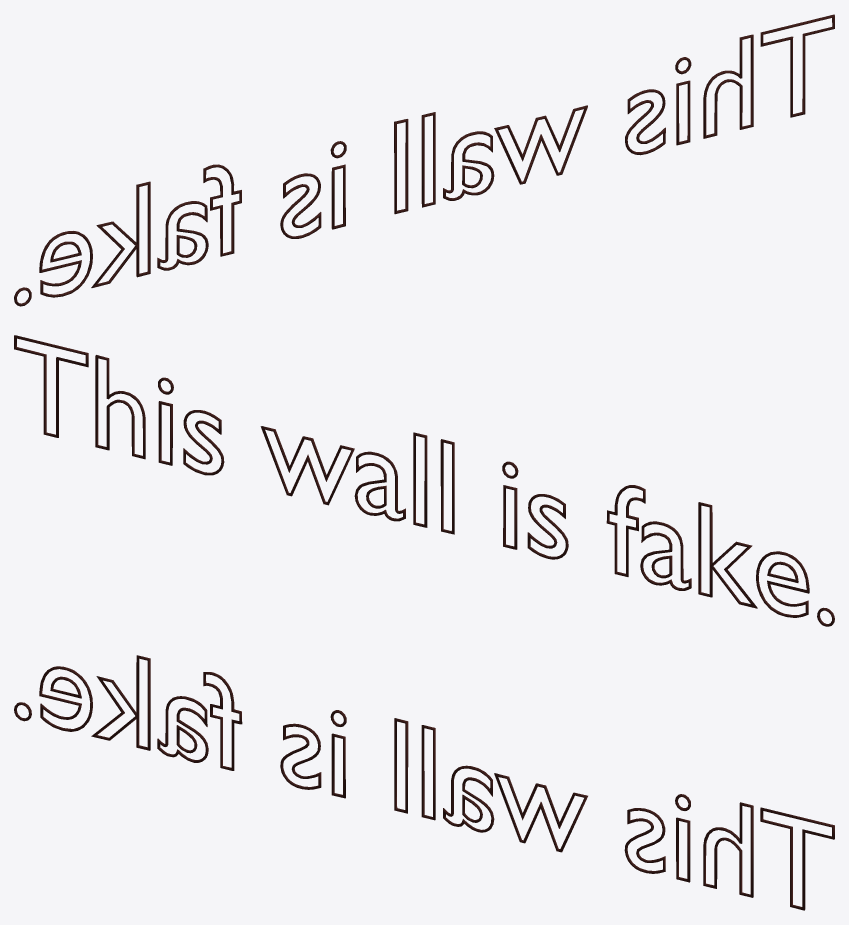
File: orbs-fortress-forexitb.glb
The picture shows the model from 3 angles, top to bottom: view 1: azimuth 30°, elevation 25°; view 2: azimuth 150°, elevation 25°; view 3: azimuth 330°, elevation 25°; orthographic projection.
Visible parts, largest first — view 1: Text.002; view 2: Text.002; view 3: Text.002.
Boxes of the visible parts, x1=… form: Text.002: x1=14, y1=14, x2=834, y2=306; Text.002: x1=14, y1=335, x2=834, y2=626; Text.002: x1=14, y1=655, x2=834, y2=910.
Bounding box in the file's own units: 3.87 × 0.4264 × 0.0128.
1 material, 1 textured.
